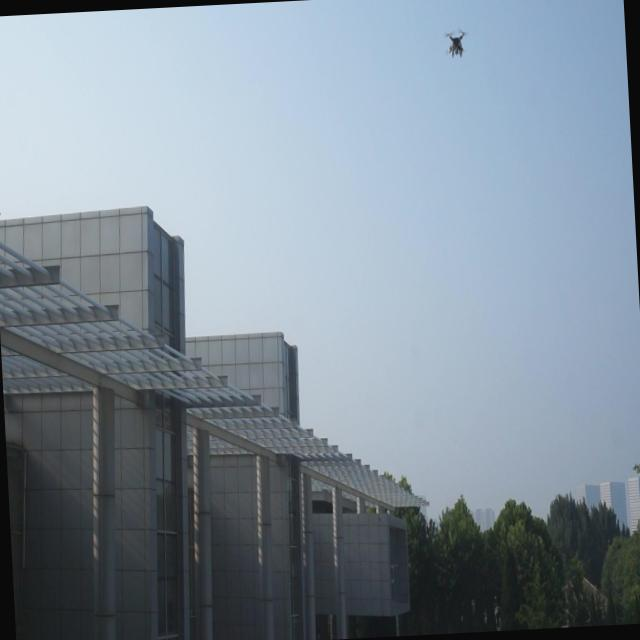drone: (444, 24, 471, 62)
